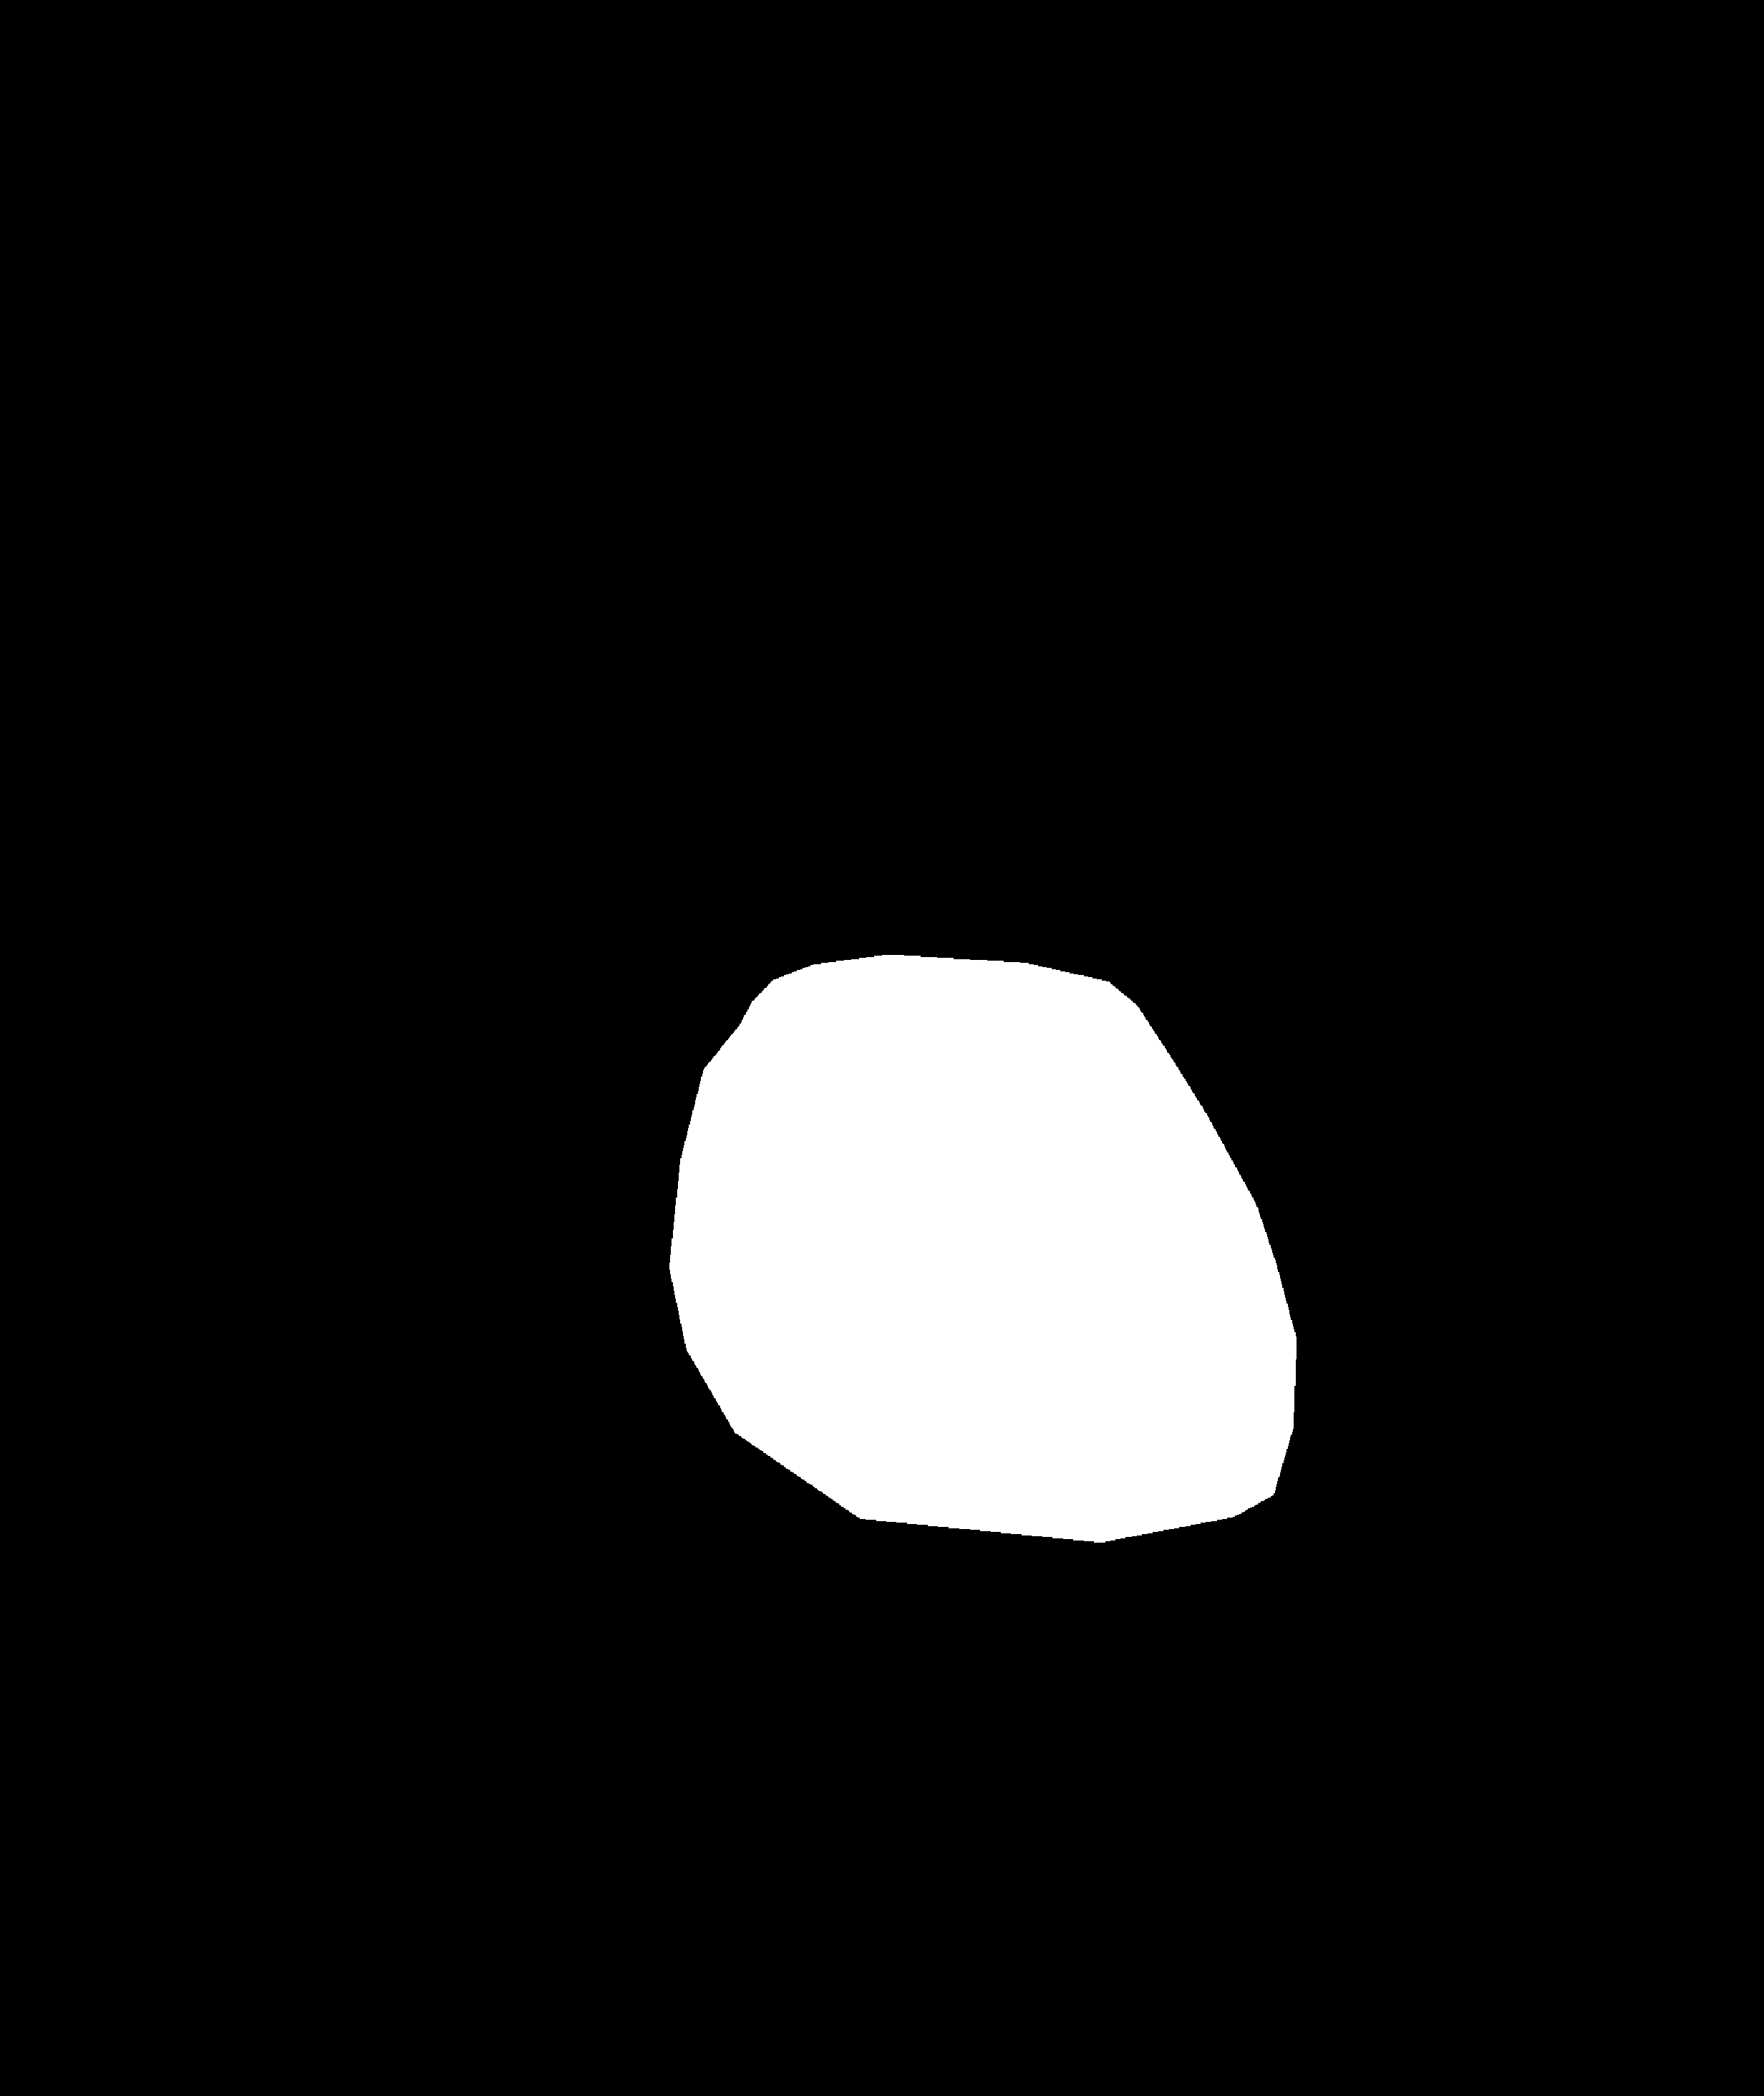heart: (672, 997, 1292, 1571)
left_lung: (186, 318, 859, 1639)
right_lung: (1017, 301, 1558, 1716)
